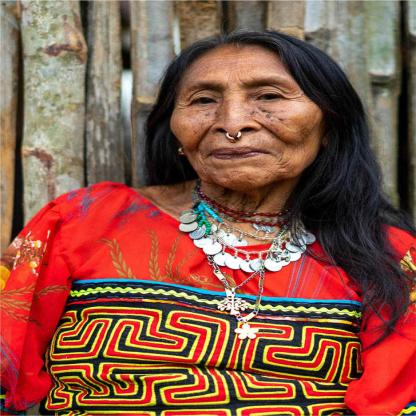person: (161, 27, 368, 206)
